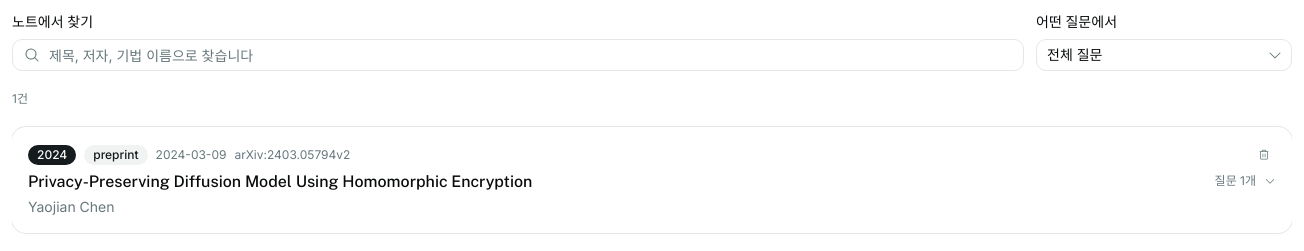
NoteBrowser › 검색 결과가 없으면 노트가 빈 것과 다르게 알린다
In the field labelled "노트에서 찾기": (518, 55) x1=12 y1=39 x2=1024 y2=71, type "존재하지않는말"
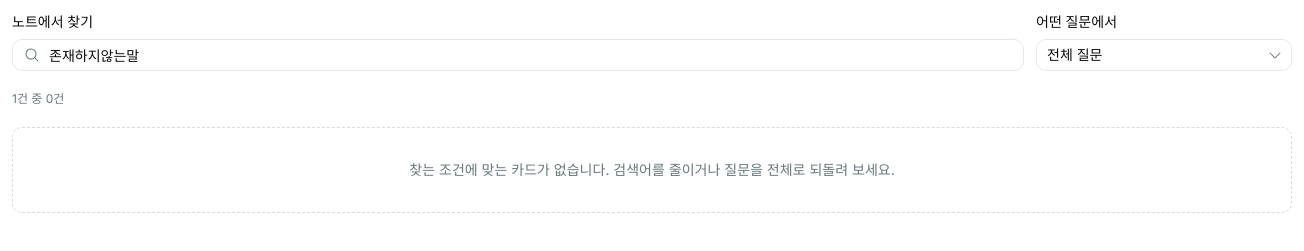
Expected: the text "찾는 조건에 맞는 카드가 없습니다. 검색어를 줄이거나 질문을 전체로 되돌려 보세요." is shown, x1=12 y1=127 x2=1292 y2=213
